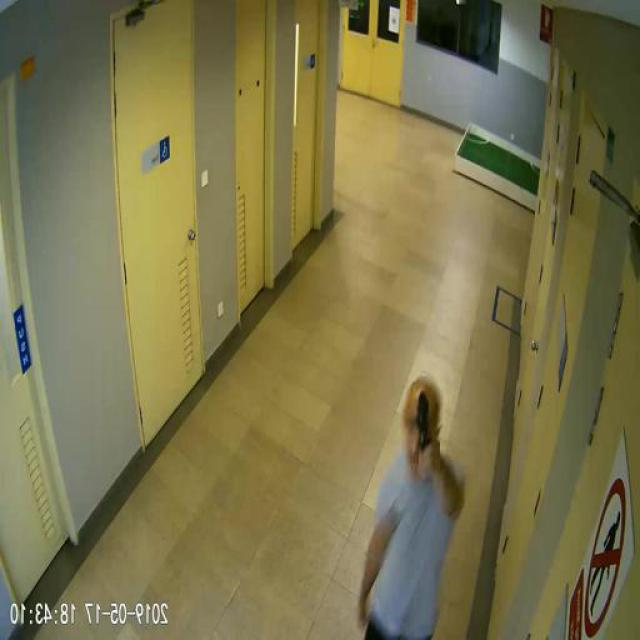Gun: (418, 388, 437, 466)
